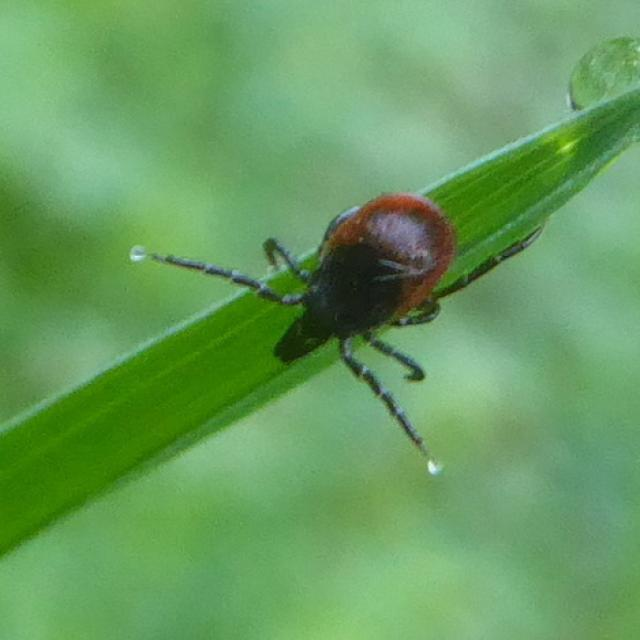Ixodes Ricinus-F: (130, 195, 544, 476)
